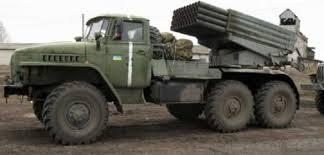MIL_SAM_TEL: (7, 1, 298, 143)
